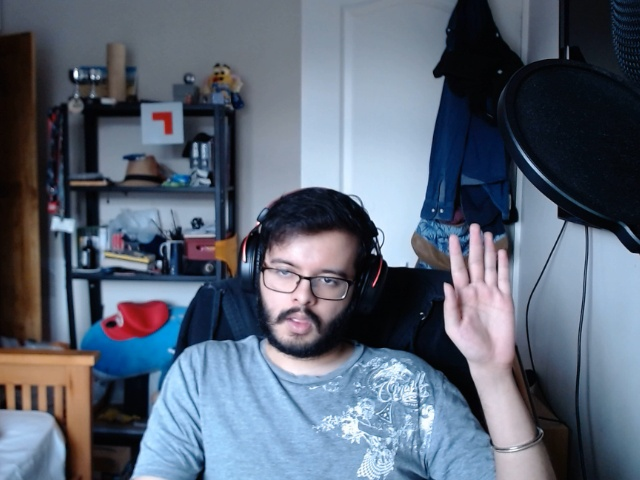Hello: (434, 213, 521, 375)
